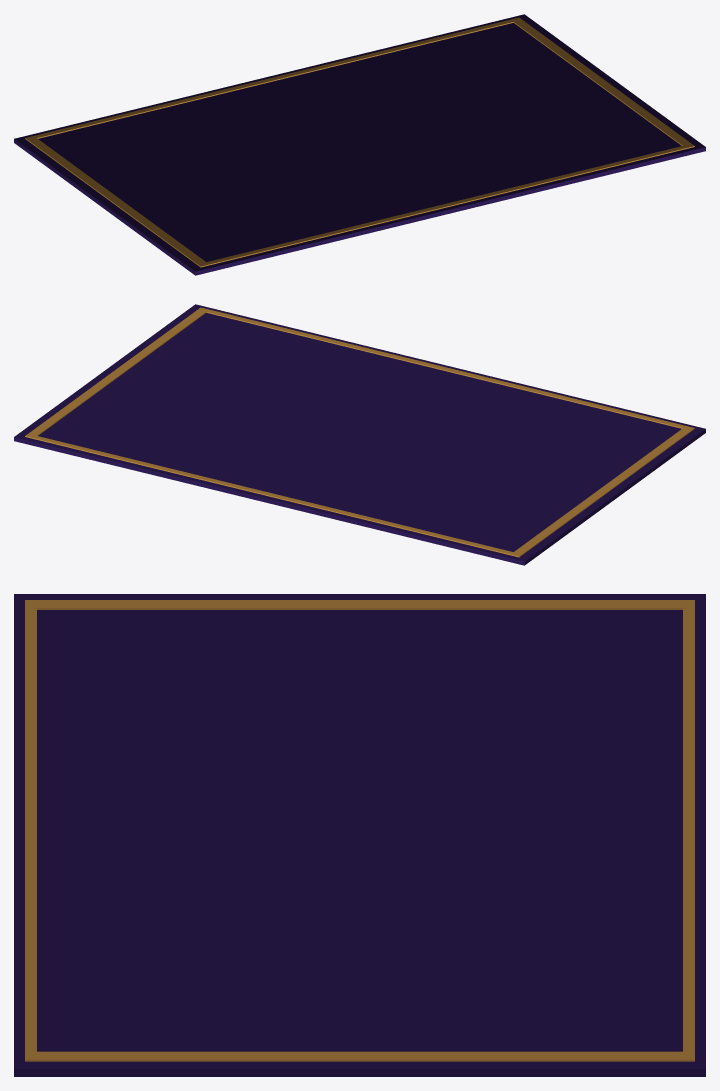
The model's file is Rectangle Carpet.fbx.
The picture shows the model from 3 angles, top to bottom: view 1: azimuth 30°, elevation 25°; view 2: azimuth 150°, elevation 25°; view 3: azimuth 270°, elevation 25°; orthographic projection. The views are drawn at different scales.
Parts seen in each view (by area): view 1: Node 0; view 2: Node 0; view 3: Node 0.
Part boxes in pixels (x1=…): Node 0: x1=14, y1=14, x2=705, y2=275; Node 0: x1=14, y1=304, x2=705, y2=565; Node 0: x1=14, y1=594, x2=705, y2=1076.
Size of the model in its own units: 0.9505 by 0.0144 by 1.54.
